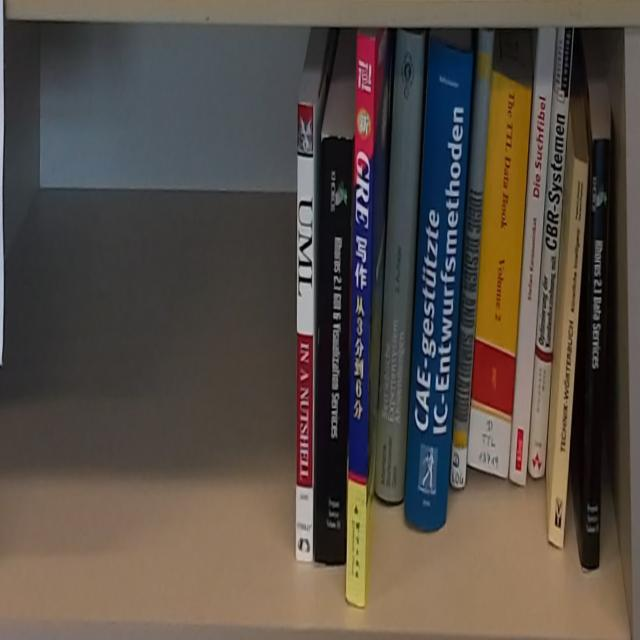Book Spine: (404, 33, 472, 532), (467, 70, 533, 479), (375, 31, 425, 504), (509, 26, 557, 489), (529, 27, 574, 480), (450, 28, 493, 490), (314, 137, 354, 568), (346, 33, 375, 608), (548, 157, 589, 547), (581, 138, 611, 568), (295, 102, 315, 563)
